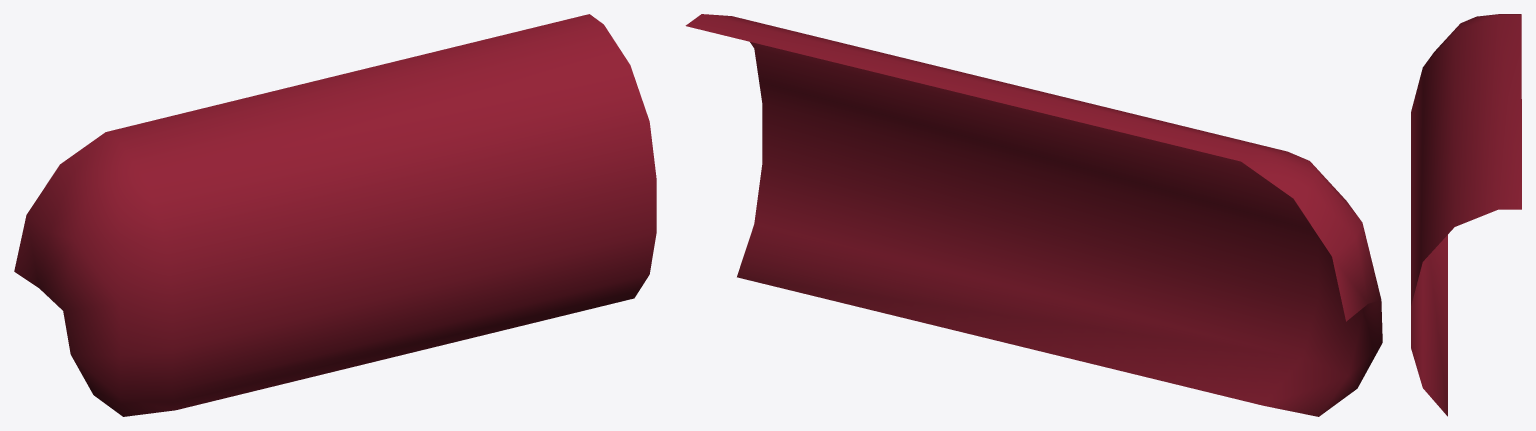
The model's file is Surface_CornerRoad0.fbx.
The picture shows the model from 3 angles, left to right: view 1: azimuth 30°, elevation 25°; view 2: azimuth 150°, elevation 25°; view 3: azimuth 270°, elevation 25°; orthographic projection. The views are drawn at different scales.
Visible parts, largest first — view 1: Surface_CornerRoad; view 2: Surface_CornerRoad; view 3: Surface_CornerRoad.
Part boxes in pixels (x1,y1,x2,y2): Surface_CornerRoad: (14,14,656,416); Surface_CornerRoad: (685,14,1382,416); Surface_CornerRoad: (1411,14,1521,416).
Bounding box in the file's own units: 2131 × 890 × 431.
